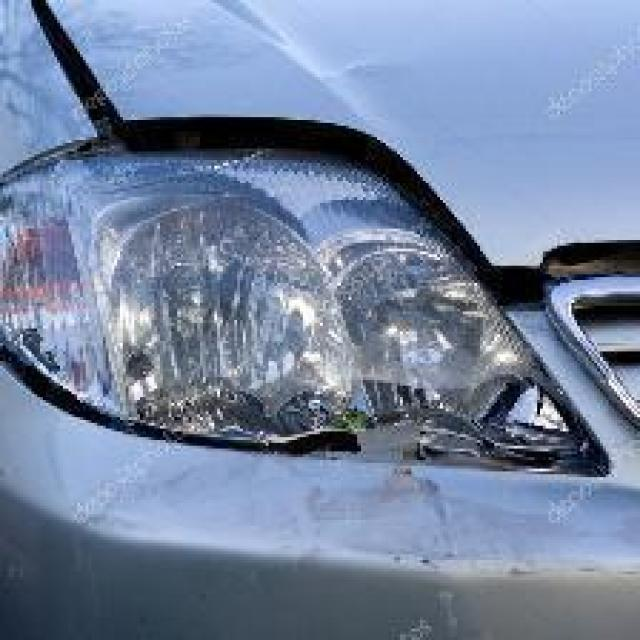damaged: (257, 368, 637, 586)
